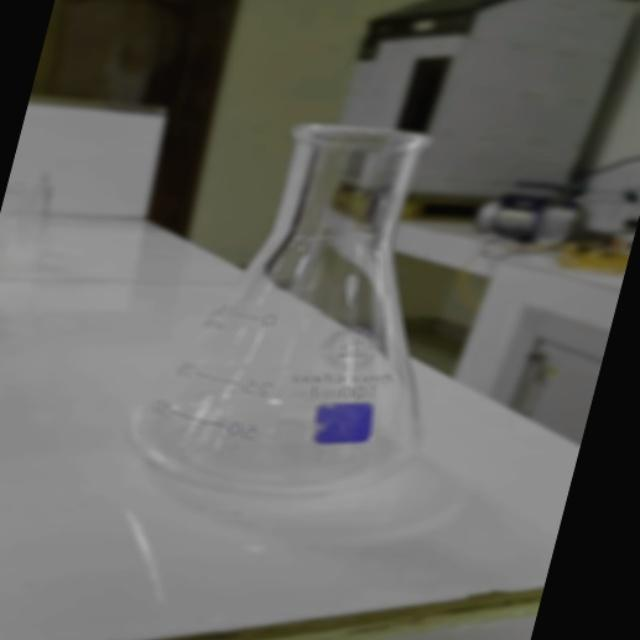Conical Flask: (106, 104, 514, 504)
